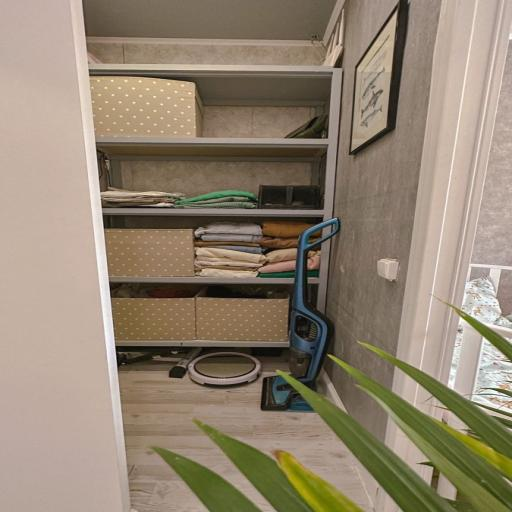road: (88, 65, 337, 349)
